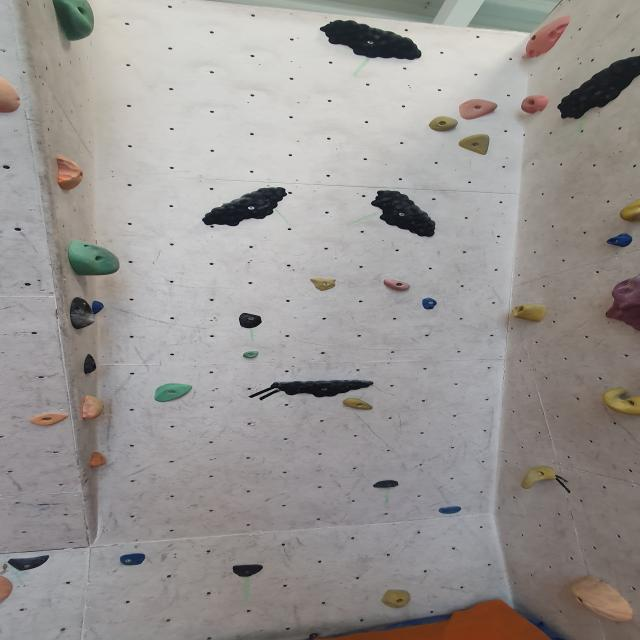Crimp: (226, 559, 272, 579), (232, 311, 268, 330), (115, 552, 156, 568), (370, 477, 411, 493), (381, 275, 415, 294), (306, 275, 343, 292), (600, 233, 638, 248), (29, 413, 69, 427), (437, 504, 467, 515), (93, 300, 108, 316), (239, 349, 262, 359)
Jug: (554, 55, 640, 122), (314, 15, 428, 60), (192, 185, 300, 228), (367, 188, 448, 239), (53, 0, 99, 46), (597, 383, 640, 417), (456, 132, 500, 158), (518, 464, 556, 492), (456, 97, 500, 121), (520, 95, 550, 116), (426, 115, 458, 133)
Pinch: (45, 155, 90, 196), (75, 393, 108, 422), (378, 588, 419, 610)
Pocket: (68, 297, 97, 330), (510, 302, 549, 324)
Sloper: (564, 572, 636, 625), (522, 12, 575, 61), (64, 239, 122, 277), (0, 73, 22, 118)
